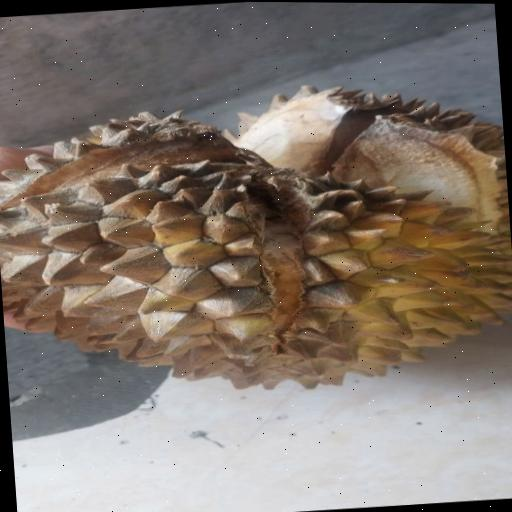mold: (353, 116, 443, 139), (261, 213, 303, 258), (150, 133, 239, 150), (331, 104, 371, 123)
rot: (158, 164, 398, 231), (103, 113, 215, 143), (382, 103, 462, 133)
